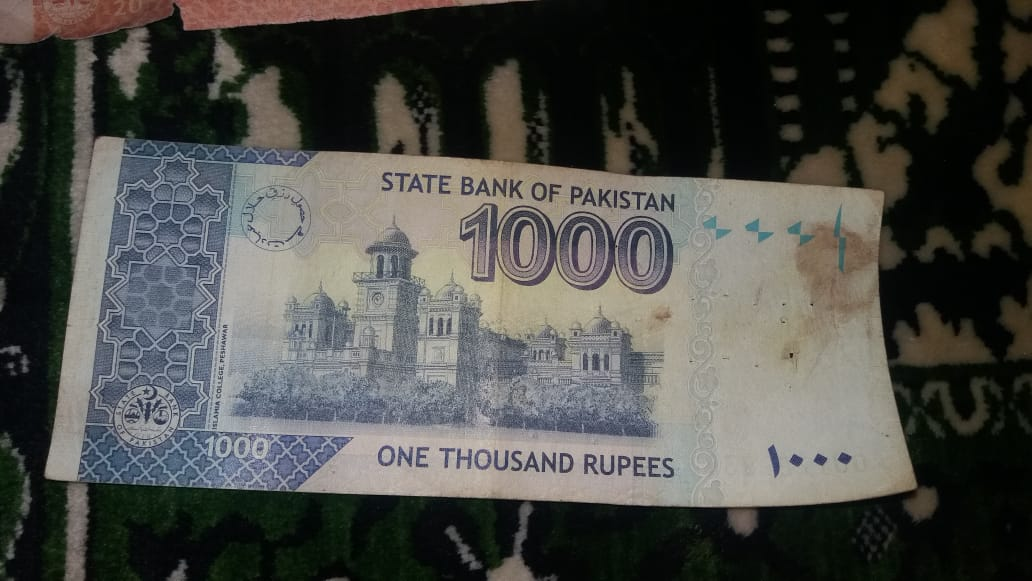1000 rupee: (47, 129, 925, 534)
